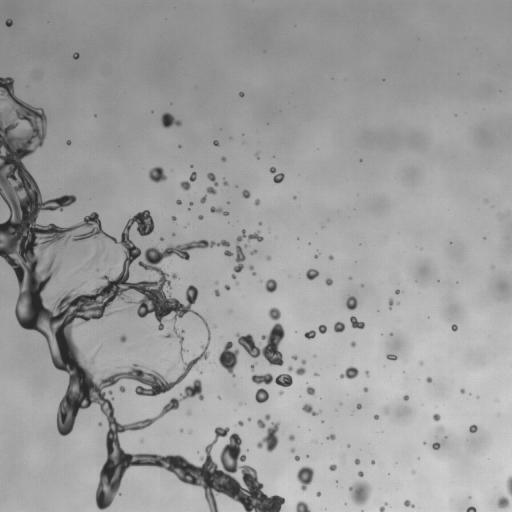droplet: (296, 465, 314, 491), (160, 112, 182, 128), (148, 166, 167, 183), (269, 166, 284, 183), (339, 366, 358, 379), (349, 315, 365, 329), (255, 388, 269, 403), (264, 278, 277, 293), (257, 413, 270, 428), (345, 295, 357, 310), (496, 495, 509, 508), (295, 501, 311, 511), (306, 268, 319, 280), (333, 321, 345, 332), (303, 330, 316, 340), (306, 386, 317, 397), (12, 85, 23, 96), (27, 97, 38, 108), (44, 124, 55, 135), (20, 155, 31, 166), (178, 189, 189, 200), (39, 190, 50, 201), (198, 203, 209, 214), (174, 205, 185, 216), (35, 214, 46, 225), (128, 229, 139, 240), (174, 235, 185, 246), (169, 236, 180, 247), (225, 256, 236, 267), (158, 257, 169, 268), (267, 296, 278, 307), (353, 308, 364, 319), (264, 318, 275, 329), (255, 338, 266, 349), (276, 340, 287, 351), (209, 348, 220, 359), (236, 348, 247, 359), (269, 364, 280, 375), (59, 370, 70, 381), (183, 375, 194, 386), (126, 378, 137, 389), (266, 381, 277, 392), (159, 391, 170, 402), (48, 405, 59, 416), (361, 406, 372, 417), (218, 435, 229, 446), (157, 446, 168, 457), (192, 456, 203, 467), (124, 465, 135, 476), (89, 471, 100, 482), (166, 471, 177, 482), (348, 474, 359, 485), (193, 484, 204, 495), (262, 485, 273, 496), (340, 489, 351, 500), (366, 490, 377, 501), (214, 491, 225, 502), (300, 491, 311, 502), (110, 494, 121, 505), (364, 498, 375, 509), (403, 499, 414, 508), (247, 265, 256, 275), (318, 324, 327, 334), (379, 501, 388, 511), (349, 503, 360, 511), (56, 219, 65, 228), (318, 253, 327, 262), (310, 260, 319, 269), (5, 265, 14, 274), (315, 274, 324, 283), (262, 326, 271, 335), (292, 359, 301, 368), (118, 377, 127, 386), (304, 394, 313, 403), (90, 401, 99, 410), (116, 415, 125, 424), (100, 423, 109, 432), (258, 428, 267, 437), (116, 431, 125, 440), (169, 447, 178, 456), (98, 454, 107, 463), (211, 454, 220, 463), (298, 458, 307, 467), (499, 488, 508, 497), (119, 333, 127, 343), (386, 353, 397, 360), (242, 189, 250, 198), (325, 277, 333, 286), (432, 413, 441, 421), (469, 424, 477, 433), (432, 441, 440, 450), (233, 420, 243, 427), (200, 505, 211, 511), (234, 505, 245, 511), (278, 505, 289, 511), (119, 385, 127, 393), (436, 424, 444, 432), (5, 18, 12, 27), (326, 433, 335, 440), (213, 289, 220, 297), (450, 324, 458, 331), (402, 393, 409, 401), (329, 464, 337, 471), (0, 87, 5, 98), (0, 198, 5, 209), (0, 213, 5, 224), (222, 177, 228, 186), (224, 250, 233, 256), (466, 506, 476, 511), (426, 376, 433, 383), (288, 434, 295, 441), (6, 98, 13, 105), (172, 113, 179, 120), (155, 117, 162, 124), (169, 123, 176, 130), (162, 168, 169, 175), (157, 179, 164, 186), (206, 179, 213, 186), (150, 180, 157, 187), (199, 188, 206, 195), (54, 191, 61, 198), (206, 192, 213, 199), (248, 194, 255, 201), (193, 198, 200, 205), (181, 200, 188, 207), (84, 209, 91, 216), (120, 218, 127, 225), (131, 221, 138, 228), (194, 234, 201, 241), (228, 245, 235, 252), (170, 252, 177, 259), (241, 259, 248, 266), (10, 273, 17, 280), (227, 279, 234, 286), (259, 282, 266, 289), (218, 286, 225, 293), (392, 294, 399, 301), (181, 298, 188, 305), (190, 302, 197, 309), (277, 305, 284, 312), (349, 308, 356, 315), (276, 317, 283, 324), (344, 320, 351, 327), (281, 324, 288, 331), (326, 324, 333, 331), (28, 328, 35, 335), (217, 345, 224, 352), (257, 353, 264, 360), (248, 356, 255, 363), (232, 365, 239, 372), (220, 366, 227, 373), (357, 369, 364, 376), (289, 371, 296, 378), (132, 379, 139, 386), (259, 381, 266, 388), (111, 383, 118, 390), (101, 386, 108, 393), (200, 387, 207, 394), (58, 390, 65, 397), (177, 400, 184, 407), (155, 405, 162, 412), (76, 408, 83, 415), (168, 408, 175, 415), (146, 411, 153, 418), (269, 415, 276, 422), (101, 418, 108, 425), (250, 419, 257, 426), (72, 421, 79, 428), (264, 421, 271, 428), (274, 430, 281, 437), (287, 440, 294, 447), (274, 443, 281, 450), (100, 446, 107, 453), (122, 446, 129, 453), (298, 451, 305, 458), (243, 458, 250, 465), (235, 459, 242, 466), (96, 462, 103, 469), (356, 463, 363, 470), (142, 464, 149, 471), (150, 464, 157, 471), (311, 473, 318, 480), (361, 474, 368, 481), (256, 475, 263, 482), (295, 480, 302, 487), (186, 483, 193, 490), (89, 496, 96, 503), (254, 151, 260, 159), (403, 506, 412, 511), (73, 52, 79, 59), (254, 198, 260, 205), (250, 249, 257, 255), (278, 390, 285, 396), (354, 458, 360, 465), (93, 267, 101, 272), (383, 406, 388, 414), (238, 91, 244, 97), (213, 140, 219, 146), (328, 254, 334, 260), (224, 284, 230, 290), (350, 341, 356, 347), (291, 354, 297, 360), (294, 455, 300, 461), (0, 18, 4, 27), (0, 255, 4, 264), (505, 505, 511, 511), (395, 289, 402, 294), (364, 370, 369, 377), (316, 490, 321, 497), (221, 156, 226, 162), (176, 199, 182, 204), (198, 214, 203, 220), (171, 216, 177, 221), (460, 388, 465, 394), (356, 403, 361, 409), (186, 409, 191, 415), (373, 414, 379, 419), (290, 447, 295, 453), (370, 459, 375, 465), (507, 495, 511, 502), (94, 507, 101, 511), (101, 507, 108, 511), (66, 140, 71, 145), (266, 255, 271, 260), (363, 387, 368, 392), (1, 73, 6, 78), (12, 81, 17, 86), (43, 110, 48, 115), (42, 138, 47, 143), (217, 138, 222, 143), (35, 146, 40, 151), (223, 152, 228, 157), (216, 157, 221, 162), (223, 160, 228, 165), (155, 162, 160, 167), (188, 167, 193, 172), (29, 170, 34, 175), (269, 172, 274, 177), (31, 173, 36, 178), (33, 176, 38, 181), (214, 176, 219, 181), (281, 178, 286, 183), (189, 180, 194, 185), (36, 181, 41, 186), (275, 182, 280, 187), (213, 185, 218, 190), (178, 186, 183, 191), (246, 186, 251, 191), (65, 190, 70, 195), (240, 196, 245, 201), (259, 199, 264, 204), (171, 200, 176, 205), (69, 202, 74, 207), (213, 203, 218, 208), (255, 204, 260, 209), (62, 205, 67, 210), (138, 207, 143, 212), (54, 208, 59, 213), (132, 210, 137, 215), (149, 211, 154, 216), (211, 211, 216, 216), (152, 219, 157, 224), (100, 224, 105, 229), (152, 226, 157, 231), (244, 230, 249, 235), (149, 231, 154, 236), (116, 235, 121, 240), (198, 235, 203, 240), (224, 236, 229, 241), (242, 236, 247, 241), (206, 237, 211, 242), (215, 237, 220, 242), (251, 237, 256, 242), (238, 241, 243, 246), (212, 244, 217, 249), (205, 245, 210, 250), (222, 245, 227, 250), (186, 248, 191, 253), (241, 248, 246, 253), (231, 253, 236, 258), (223, 254, 228, 259), (181, 258, 186, 263), (233, 261, 238, 266), (314, 265, 319, 270), (240, 267, 245, 272), (234, 271, 239, 276), (301, 273, 306, 278), (330, 275, 335, 280), (273, 276, 278, 281), (313, 276, 318, 281), (305, 278, 310, 283), (321, 281, 326, 286), (193, 282, 198, 287), (183, 284, 188, 289), (213, 284, 218, 289), (275, 284, 280, 289), (327, 284, 332, 289), (272, 289, 277, 294), (267, 291, 272, 296), (349, 291, 354, 296), (13, 293, 18, 298), (342, 296, 347, 301), (355, 296, 360, 301), (194, 297, 199, 302), (341, 299, 346, 304), (384, 302, 389, 307), (391, 303, 396, 308), (10, 305, 15, 310), (265, 306, 270, 311), (356, 317, 361, 322), (13, 319, 18, 324), (316, 320, 321, 325), (322, 320, 327, 325), (363, 324, 368, 329), (456, 326, 461, 331), (304, 327, 309, 332), (354, 327, 359, 332), (314, 328, 319, 333), (336, 331, 341, 336), (383, 331, 388, 336), (209, 332, 214, 337), (39, 334, 44, 339), (302, 336, 307, 341), (209, 337, 214, 342), (354, 343, 359, 348), (347, 345, 352, 350), (206, 346, 211, 351), (281, 356, 286, 361), (196, 359, 201, 364), (215, 360, 220, 365), (351, 362, 356, 367), (301, 363, 306, 368), (344, 363, 349, 368), (340, 369, 345, 374), (248, 371, 253, 376), (428, 372, 433, 377), (343, 376, 348, 381), (421, 376, 426, 381), (431, 376, 436, 381), (231, 377, 236, 382), (349, 377, 354, 382), (247, 378, 252, 383), (427, 381, 432, 386), (308, 382, 313, 387), (277, 384, 282, 389), (287, 384, 292, 389), (301, 387, 306, 392), (464, 388, 469, 393), (463, 391, 468, 396), (471, 392, 476, 397), (104, 393, 109, 398), (193, 393, 198, 398), (138, 394, 143, 399), (250, 394, 255, 399), (251, 397, 256, 402), (401, 399, 406, 404), (110, 400, 115, 405), (260, 401, 265, 406), (298, 402, 303, 407), (311, 406, 316, 411), (433, 408, 438, 413), (306, 411, 311, 416), (112, 412, 117, 417), (428, 412, 433, 417), (378, 413, 383, 418), (140, 415, 145, 420), (241, 417, 246, 422), (429, 417, 434, 422), (436, 419, 441, 424), (433, 420, 438, 425), (468, 420, 473, 425), (150, 422, 155, 427), (220, 423, 225, 428), (52, 424, 57, 429), (145, 425, 150, 430), (210, 425, 215, 430), (53, 428, 58, 433), (135, 428, 140, 433), (182, 428, 187, 433), (330, 429, 335, 434), (210, 431, 215, 436), (226, 431, 231, 436), (472, 431, 477, 436), (66, 432, 71, 437), (238, 433, 243, 438), (293, 433, 298, 438), (334, 433, 339, 438), (430, 438, 435, 443), (431, 448, 436, 453), (149, 449, 154, 454), (293, 450, 298, 455), (201, 452, 206, 457), (290, 452, 295, 457), (358, 456, 363, 461), (329, 459, 334, 464), (335, 465, 340, 470), (355, 475, 360, 480), (305, 483, 310, 488), (278, 492, 283, 497), (201, 497, 206, 502), (399, 498, 404, 503), (409, 499, 414, 504), (468, 501, 473, 506), (465, 502, 470, 507), (216, 504, 221, 509), (313, 372, 319, 376), (228, 309, 233, 313), (419, 360, 423, 365), (108, 389, 112, 394), (422, 440, 426, 445), (411, 469, 415, 474), (292, 195, 296, 199), (484, 199, 488, 203), (258, 221, 262, 225), (171, 232, 175, 236), (244, 244, 248, 248), (491, 265, 495, 269), (348, 276, 352, 280), (214, 280, 218, 284), (360, 283, 364, 287), (396, 301, 400, 305), (212, 324, 216, 328), (389, 332, 393, 336), (217, 395, 221, 399), (247, 417, 251, 421), (98, 422, 102, 426), (179, 428, 183, 432), (188, 430, 192, 434), (346, 443, 350, 447), (140, 438, 143, 443), (374, 508, 379, 511), (383, 508, 388, 511), (461, 508, 466, 511), (475, 508, 480, 511), (178, 144, 181, 148), (359, 158, 362, 162), (226, 201, 230, 204), (482, 236, 486, 239), (419, 247, 423, 250), (312, 354, 316, 357), (476, 395, 479, 399), (246, 448, 249, 452), (306, 454, 309, 458), (467, 496, 471, 499), (0, 196, 2, 201), (382, 78, 385, 81), (150, 110, 153, 113), (229, 136, 232, 139), (190, 164, 193, 167), (449, 241, 452, 244), (308, 242, 311, 245), (259, 279, 262, 282), (294, 330, 297, 333), (220, 335, 223, 338), (402, 370, 405, 373), (339, 402, 342, 405), (334, 408, 337, 411), (321, 420, 324, 423), (444, 436, 447, 439), (3, 23, 6, 26), (10, 24, 13, 27), (71, 50, 74, 53), (76, 57, 79, 60), (381, 75, 384, 78), (379, 79, 382, 82), (236, 89, 239, 92), (237, 95, 240, 98), (242, 95, 245, 98), (93, 110, 96, 113), (96, 113, 99, 116), (91, 115, 94, 118), (241, 135, 244, 138), (63, 139, 66, 142), (210, 139, 213, 142), (70, 141, 73, 144), (178, 141, 181, 144), (64, 143, 67, 146), (214, 145, 217, 148), (175, 146, 178, 149), (180, 146, 183, 149), (257, 153, 260, 156), (359, 155, 362, 158), (253, 156, 256, 159), (225, 157, 228, 160), (356, 158, 359, 161), (256, 159, 259, 162), (189, 161, 192, 164), (359, 161, 362, 164), (186, 164, 189, 167), (268, 164, 271, 167), (224, 177, 227, 180), (194, 178, 197, 181), (270, 178, 273, 181), (239, 192, 242, 195), (293, 192, 296, 195), (200, 194, 203, 197), (289, 195, 292, 198), (295, 197, 298, 200), (224, 198, 227, 201), (227, 198, 230, 201), (180, 199, 183, 202), (175, 203, 178, 206), (187, 204, 190, 207), (207, 208, 210, 211), (222, 208, 225, 211), (187, 210, 190, 213), (172, 213, 175, 216), (195, 214, 198, 217), (225, 214, 228, 217), (202, 215, 205, 218), (168, 216, 171, 219), (257, 218, 260, 221), (174, 219, 177, 222), (199, 219, 202, 222), (261, 221, 264, 224), (183, 222, 186, 225), (186, 225, 189, 228), (106, 231, 109, 234), (174, 231, 177, 234), (239, 232, 242, 235), (110, 233, 113, 236), (258, 233, 261, 236), (481, 233, 484, 236), (162, 235, 165, 238), (293, 236, 296, 239), (298, 236, 301, 239), (307, 238, 310, 241), (449, 238, 452, 241), (481, 238, 484, 241), (261, 239, 264, 242), (296, 239, 299, 242), (304, 241, 307, 244), (310, 241, 313, 244), (450, 243, 453, 246), (318, 249, 321, 252), (315, 251, 318, 254), (311, 253, 314, 256), (332, 254, 335, 257), (317, 255, 320, 258), (188, 256, 191, 259), (312, 257, 315, 260), (329, 259, 332, 262), (228, 273, 231, 276), (347, 273, 350, 276), (252, 275, 255, 278), (351, 275, 354, 278), (436, 276, 439, 279), (347, 279, 350, 282), (439, 279, 442, 282), (361, 280, 364, 283), (452, 280, 455, 283), (435, 281, 438, 284), (169, 282, 172, 285), (363, 284, 366, 287), (360, 287, 363, 290), (393, 287, 396, 290), (398, 287, 401, 290), (398, 291, 401, 294), (212, 292, 215, 295), (392, 300, 395, 303), (399, 301, 402, 304), (386, 308, 389, 311), (198, 311, 201, 314), (376, 311, 379, 314), (429, 315, 432, 318), (320, 321, 323, 324), (455, 322, 458, 325), (207, 323, 210, 326), (448, 326, 451, 329), (209, 328, 212, 331), (388, 329, 391, 332), (453, 330, 456, 333), (322, 332, 325, 335), (392, 332, 395, 335), (388, 335, 391, 338), (390, 351, 393, 354), (291, 352, 294, 355), (383, 355, 386, 358), (389, 359, 392, 362), (50, 362, 53, 365), (247, 365, 250, 368), (316, 370, 319, 373), (368, 371, 371, 374), (314, 375, 317, 378), (336, 375, 339, 378), (365, 384, 368, 387), (460, 385, 463, 388), (367, 387, 370, 390), (360, 388, 363, 391), (132, 390, 135, 393), (457, 390, 460, 393), (364, 391, 367, 394), (401, 393, 404, 396), (219, 394, 222, 397), (408, 395, 411, 398), (202, 397, 205, 400), (215, 397, 218, 400), (400, 397, 403, 400), (407, 398, 410, 401), (356, 400, 359, 403), (241, 403, 244, 406), (360, 403, 363, 406), (353, 404, 356, 407), (354, 407, 357, 410), (375, 411, 378, 414), (312, 415, 315, 418), (371, 417, 374, 420), (374, 419, 377, 422), (321, 422, 324, 425), (474, 422, 477, 425), (476, 425, 479, 428), (466, 427, 469, 430), (176, 429, 179, 432), (444, 432, 447, 435), (326, 433, 329, 436), (322, 436, 325, 439), (328, 438, 331, 441), (436, 439, 439, 442), (208, 440, 211, 443), (346, 440, 349, 443), (419, 441, 422, 444), (439, 443, 442, 446), (350, 444, 353, 447), (429, 444, 432, 447), (346, 447, 349, 450), (355, 455, 358, 458), (352, 457, 355, 460), (419, 457, 422, 460), (293, 459, 296, 462), (374, 460, 377, 463), (352, 462, 355, 465), (327, 468, 330, 471), (387, 469, 390, 472), (330, 470, 333, 473), (362, 471, 365, 474), (384, 472, 387, 475), (387, 474, 390, 477), (337, 479, 340, 482), (332, 480, 335, 483), (348, 483, 351, 486), (313, 492, 316, 495), (467, 492, 470, 495), (319, 494, 322, 497), (385, 499, 388, 502), (380, 503, 383, 506), (342, 504, 345, 507), (402, 504, 405, 507), (414, 504, 417, 507), (321, 506, 324, 509), (259, 342, 261, 346), (197, 450, 199, 454), (417, 456, 419, 460), (170, 102, 172, 105), (94, 114, 96, 117), (454, 114, 457, 116), (272, 155, 275, 157), (235, 185, 238, 187), (187, 222, 189, 225), (321, 226, 324, 228), (358, 243, 361, 245), (382, 365, 385, 367), (469, 392, 471, 395), (344, 502, 346, 505), (322, 509, 325, 511), (242, 133, 244, 135), (227, 221, 229, 223), (184, 226, 186, 228), (297, 237, 299, 239), (415, 280, 417, 282), (437, 280, 439, 282), (456, 281, 458, 283), (427, 316, 429, 318), (306, 381, 308, 383), (299, 395, 301, 397), (308, 429, 310, 431), (361, 509, 363, 511), (499, 90, 501, 91), (377, 310, 379, 311), (381, 333, 382, 335), (381, 431, 383, 432)
ligament: (231, 229, 263, 285), (250, 359, 306, 388), (254, 422, 280, 452), (200, 172, 218, 203), (180, 171, 196, 191), (301, 403, 322, 415), (210, 206, 229, 215), (505, 475, 511, 496), (388, 298, 393, 310), (340, 453, 346, 463), (187, 201, 193, 210), (238, 401, 246, 405), (335, 480, 338, 486), (325, 507, 327, 510), (319, 397, 321, 399), (93, 326, 95, 327)
